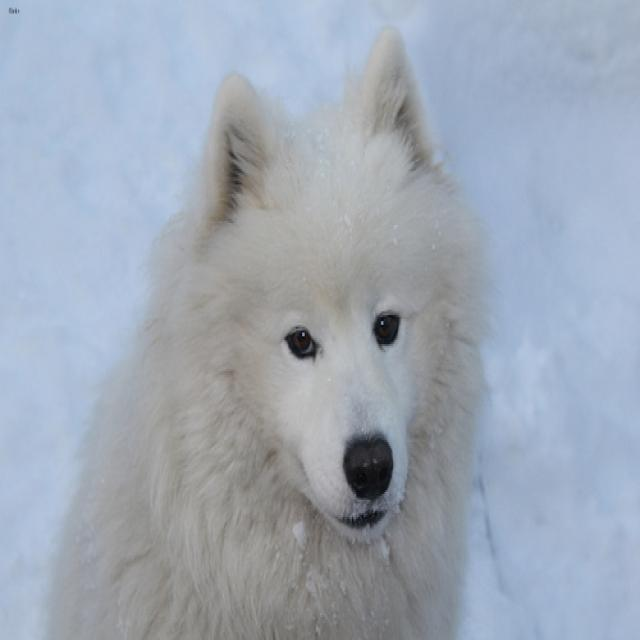dog-samoyed: (38, 15, 506, 636)
